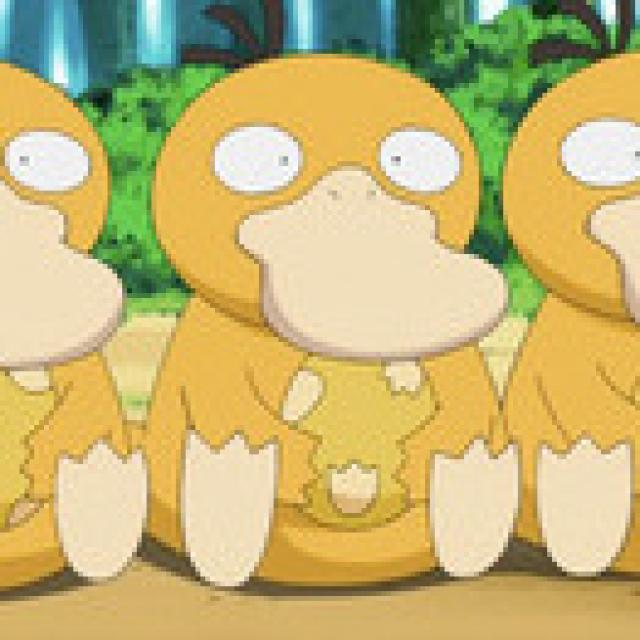Psyduck: (151, 55, 518, 585), (0, 57, 155, 593), (498, 53, 640, 577)
